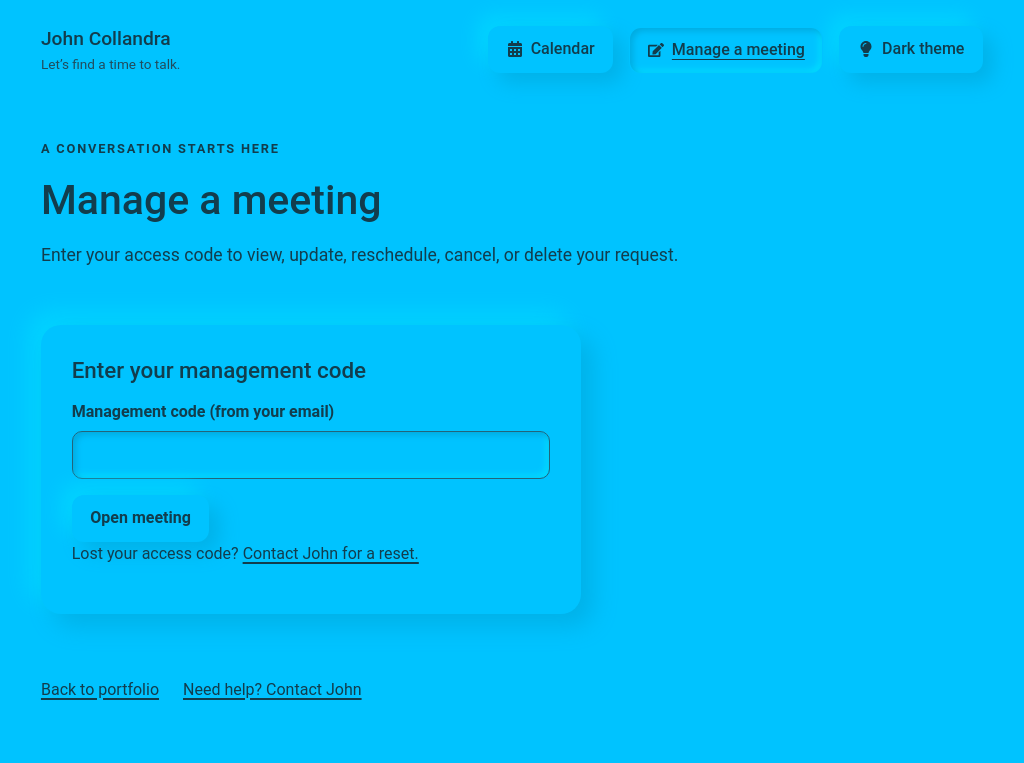
it: signing in from a booking link selects its target, not the first pending meeting
The image size is (1024, 763).
In the password field labelled "Management code (from your email)": [311, 455] box [72,431,550,479], type "TESTADMIN"
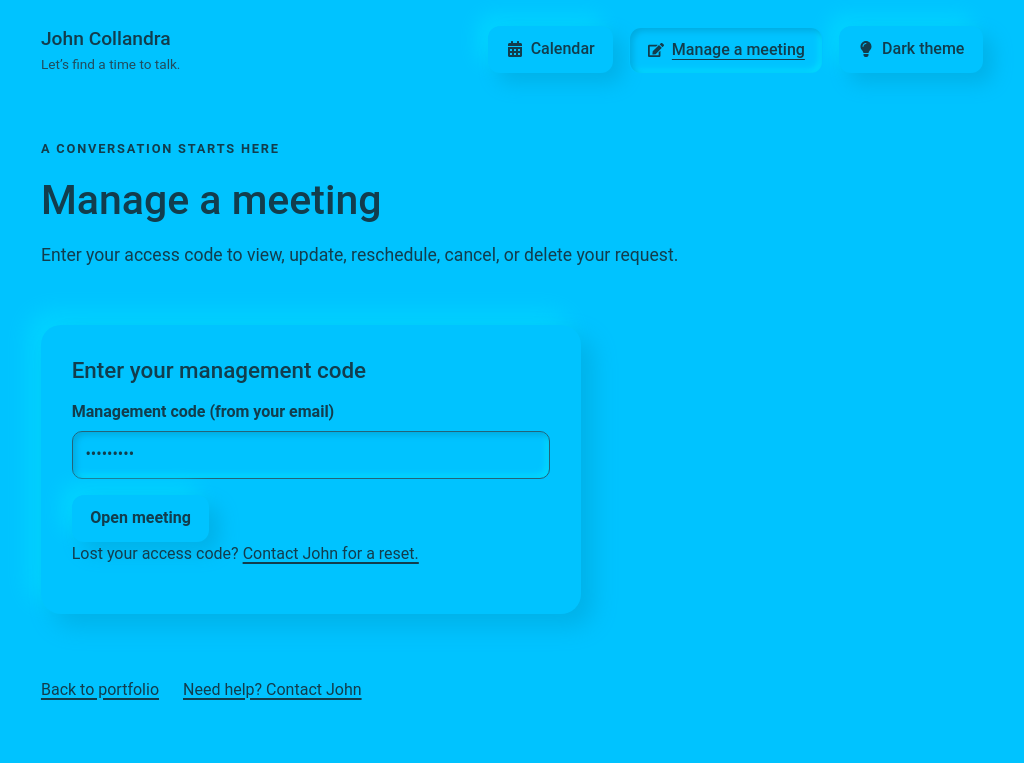
Click the button "Open meeting": [141, 518] box [72,495,209,542]
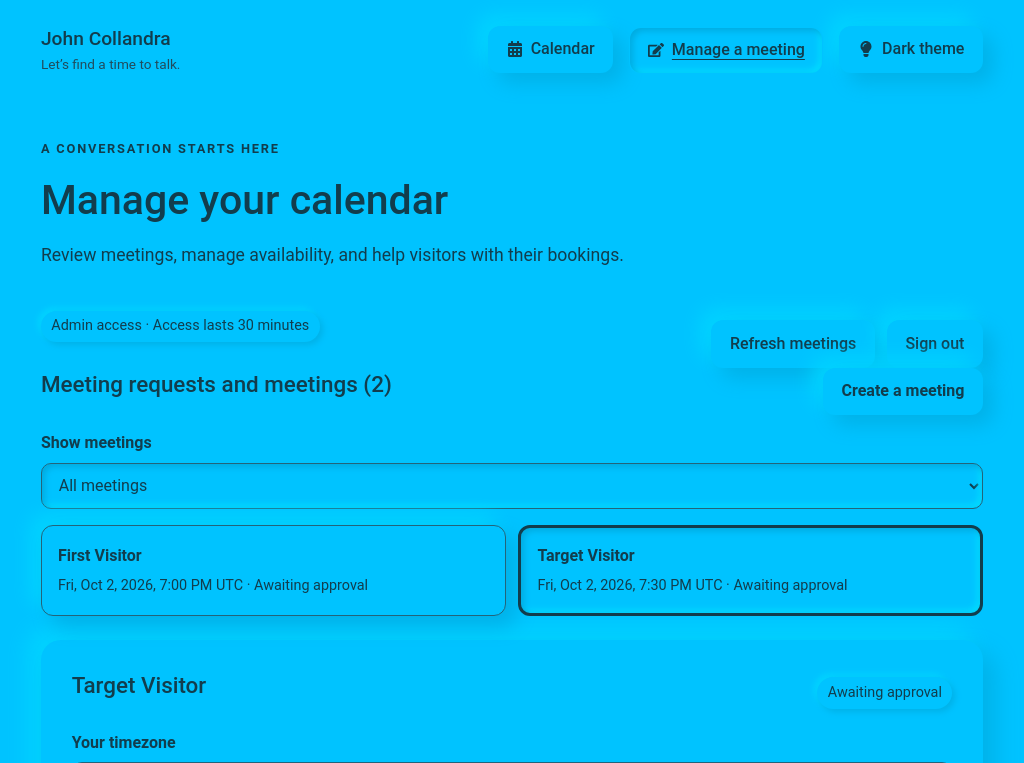
Check: the heading "Target Visitor" is shown, box [72,671,206,699]
